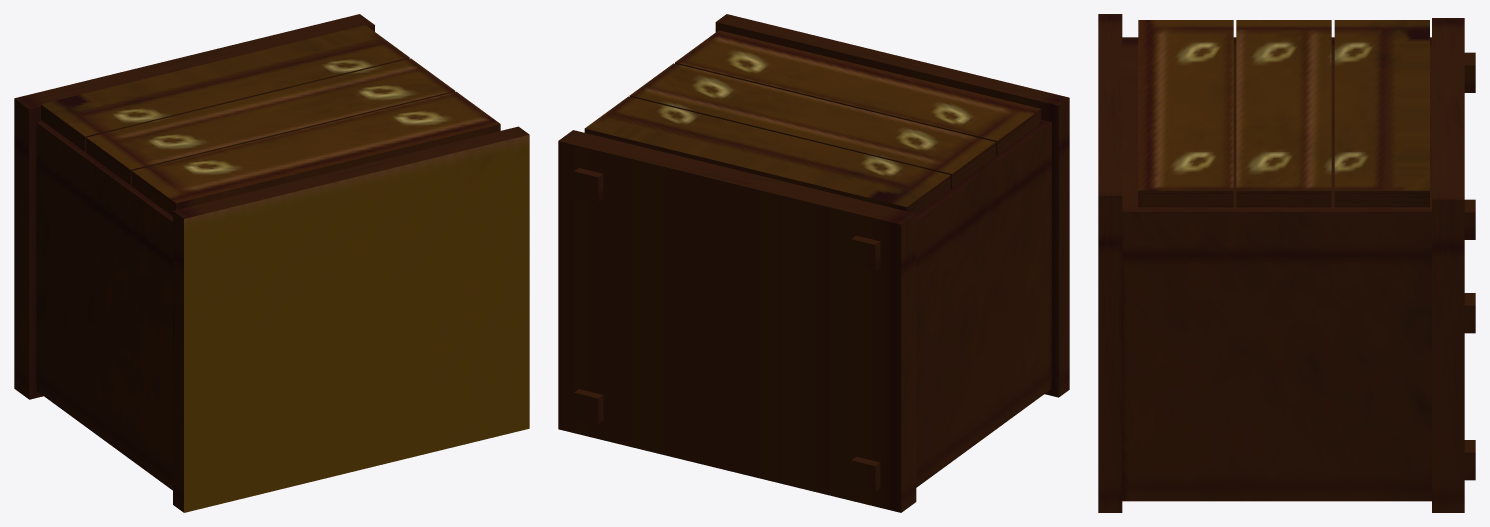
File: pz_drawer_storage_01_fancy_oak.obj
3 views of the same model, side by side, from view 1: azimuth 30°, elevation 25°; view 2: azimuth 150°, elevation 25°; view 3: azimuth 270°, elevation 25° (orthographic). The views are drawn at different scales.
Visible parts, largest first — view 1: root; view 2: root; view 3: root.
Part boxes in pixels (box(x1,y1,x2,y2)): root: box(14, 14, 529, 512); root: box(558, 14, 1069, 512); root: box(1098, 14, 1475, 512).
Bounding box in the file's own units: 0.99 × 0.805 × 0.8675.
Materials: 1 (1 with a texture image).
